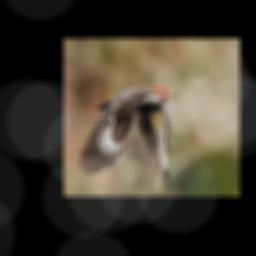Woodpecker: (76, 86, 178, 189)
